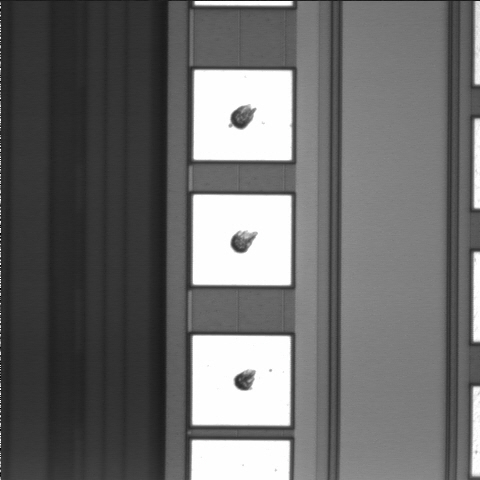pad: (192, 335, 291, 426), (193, 70, 292, 160), (193, 195, 291, 285)
